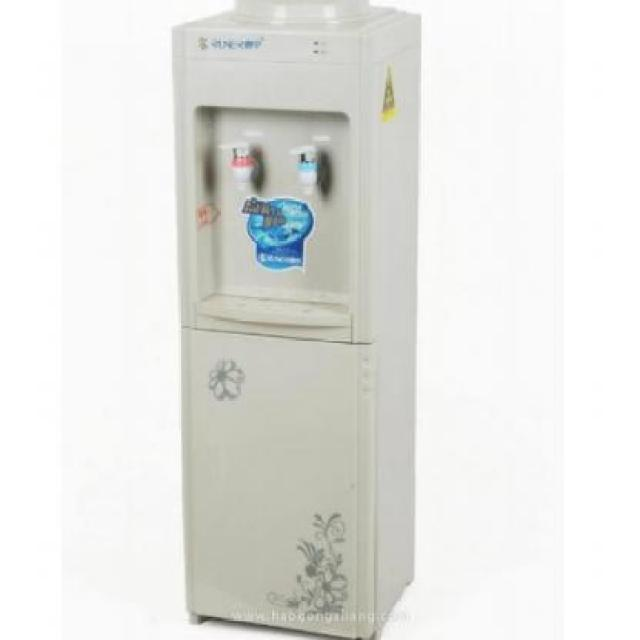cooler: (171, 0, 425, 640)
